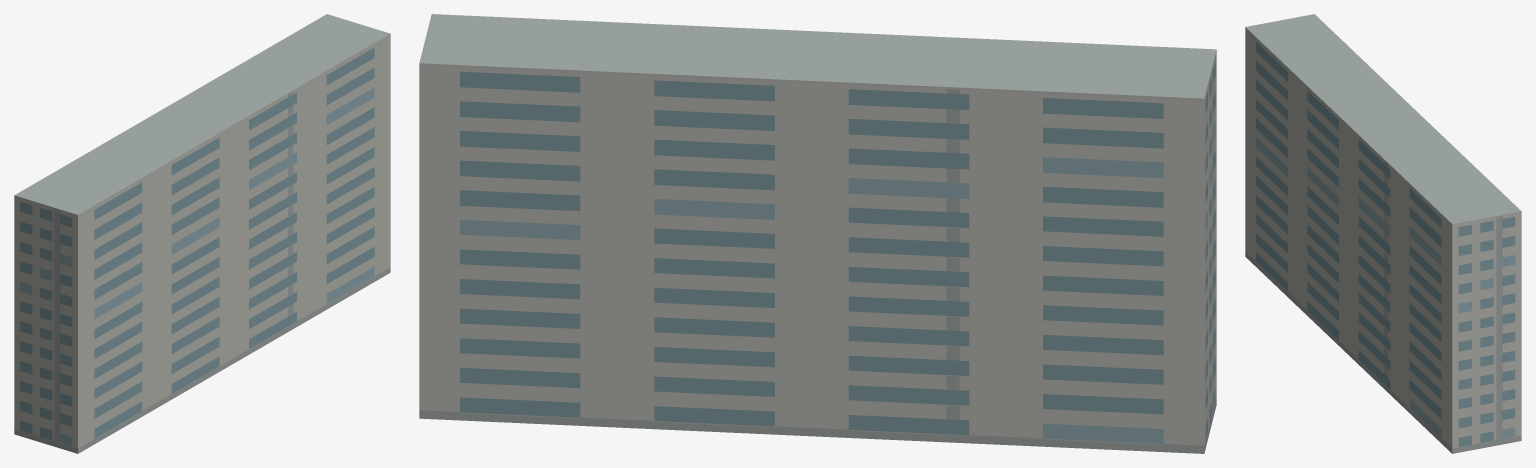
Rendered from residential-bb86a6e9-d7bc-4802-adc7-1ee067e87044.glb.
The picture shows the model from 3 angles, left to right: view 1: azimuth 30°, elevation 25°; view 2: azimuth 150°, elevation 25°; view 3: azimuth 270°, elevation 25°; orthographic projection. The views are drawn at different scales.
Parts seen in each view (by area): view 1: residential-bb86a6e9-d7bc-4802-adc7-1ee067e87044.tmp; view 2: residential-bb86a6e9-d7bc-4802-adc7-1ee067e87044.tmp; view 3: residential-bb86a6e9-d7bc-4802-adc7-1ee067e87044.tmp.
Part boxes in pixels (<box>): residential-bb86a6e9-d7bc-4802-adc7-1ee067e87044.tmp: <box>14,14,390,453</box>; residential-bb86a6e9-d7bc-4802-adc7-1ee067e87044.tmp: <box>419,14,1216,453</box>; residential-bb86a6e9-d7bc-4802-adc7-1ee067e87044.tmp: <box>1245,14,1521,453</box>.
Size of the model in its own units: 71.81 by 36.6 by 39.89.
